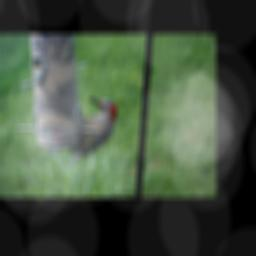Woodpecker: (68, 97, 117, 166)
